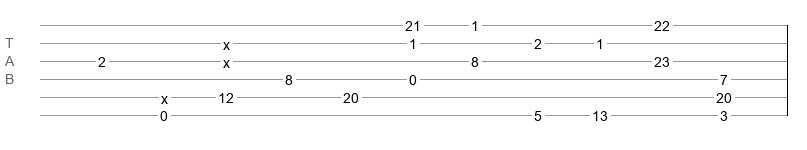0: (160, 108, 168, 118), (409, 72, 417, 82)
1: (409, 36, 417, 46), (471, 18, 479, 28), (596, 36, 604, 46)
12: (218, 90, 234, 100)
13: (592, 108, 608, 118)
2: (98, 54, 106, 64), (534, 36, 542, 46)
20: (343, 90, 359, 100), (716, 90, 732, 100)
21: (405, 18, 421, 28)
22: (654, 18, 670, 28)
23: (654, 54, 670, 64)
3: (720, 108, 728, 118)
5: (534, 108, 542, 118)
7: (720, 72, 728, 82)
8: (285, 72, 293, 82), (471, 54, 479, 64)
x: (161, 91, 168, 99), (223, 55, 230, 63), (223, 37, 230, 45)
